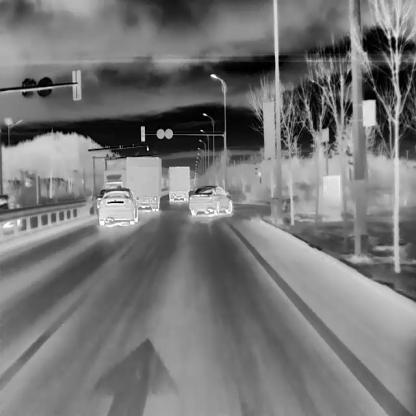car: (126, 156, 159, 211), (98, 186, 139, 224), (188, 184, 231, 215), (101, 157, 127, 188), (169, 165, 189, 201)
